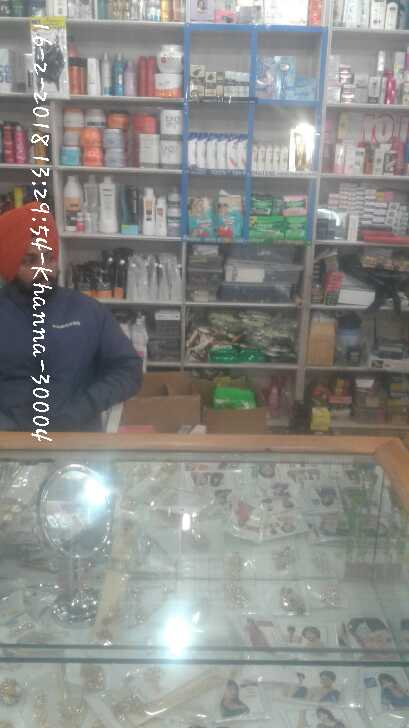venus: (275, 56, 296, 95), (256, 56, 275, 95), (296, 76, 319, 95)
